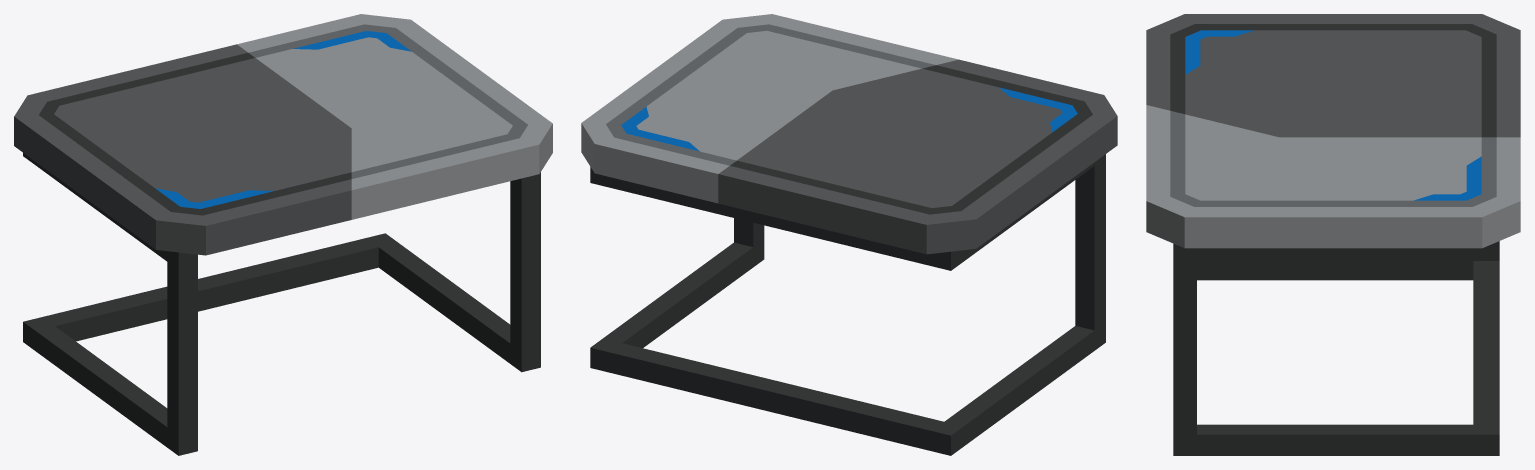
File: Desk_010.fbx
The picture shows the model from 3 angles, left to right: view 1: azimuth 30°, elevation 25°; view 2: azimuth 150°, elevation 25°; view 3: azimuth 270°, elevation 25°; orthographic projection. The views are drawn at different scales.
Visible parts, largest first — view 1: Desk_010; view 2: Desk_010; view 3: Desk_010.
Boxes of the visible parts, bbox=[...] form: Desk_010: bbox=[14, 14, 552, 455]; Desk_010: bbox=[581, 14, 1117, 455]; Desk_010: bbox=[1146, 14, 1520, 455].
Size of the model in its own units: 149 by 116 by 84.49.
